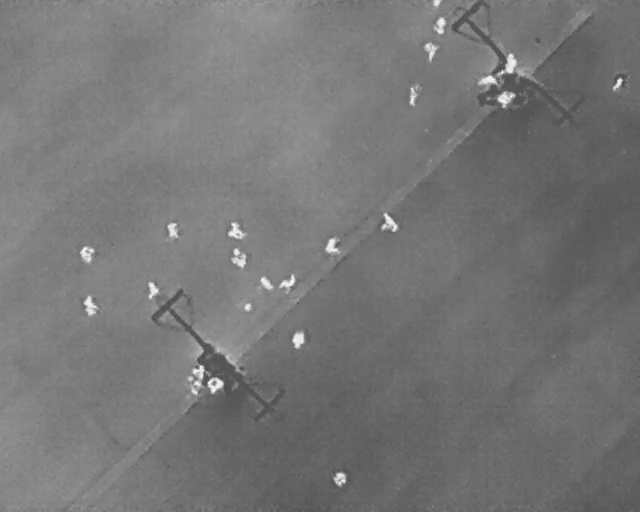Person: (78, 292, 101, 320), (471, 69, 501, 90), (611, 70, 630, 94), (228, 220, 247, 241), (381, 212, 399, 233), (497, 90, 516, 109), (407, 84, 422, 107), (278, 273, 296, 292), (424, 42, 441, 61), (231, 249, 247, 268), (324, 236, 340, 255), (187, 375, 202, 395), (146, 280, 161, 300), (432, 15, 447, 35), (257, 275, 275, 291), (332, 470, 348, 488), (292, 329, 306, 349), (504, 53, 518, 73), (207, 378, 224, 394), (78, 247, 95, 263), (191, 364, 204, 381), (166, 223, 179, 239), (432, 0, 442, 8)
